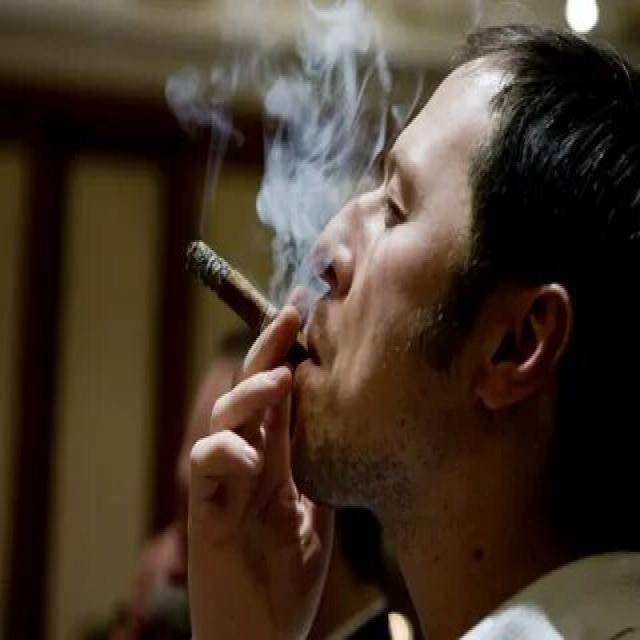cigarette: (182, 232, 314, 370)
